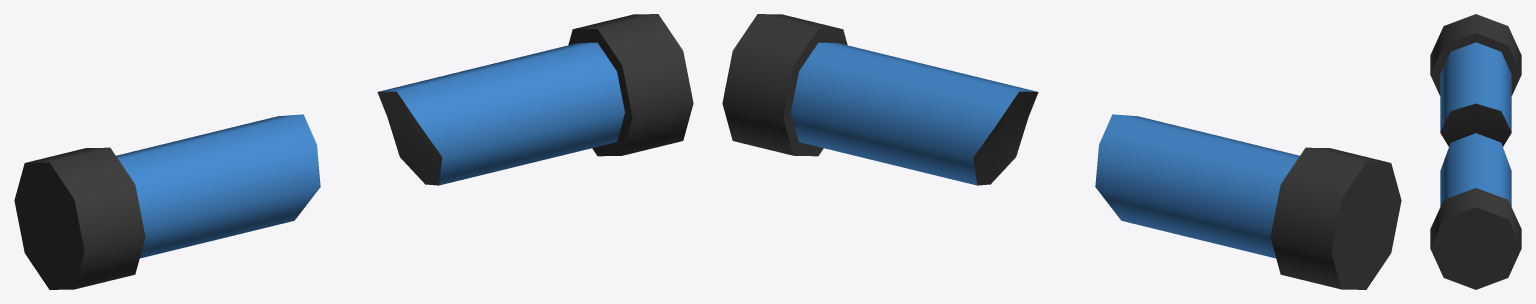
The model's file is Cable5.fbx.
3 views of the same model, side by side, from view 1: azimuth 30°, elevation 25°; view 2: azimuth 150°, elevation 25°; view 3: azimuth 270°, elevation 25° (orthographic). The views are drawn at different scales.
Visible parts, largest first — view 1: TwoSides; view 2: TwoSides; view 3: TwoSides.
Part boxes in pixels (x1,y1,x2,y2): TwoSides: (14, 14, 693, 289); TwoSides: (722, 14, 1401, 289); TwoSides: (1430, 14, 1521, 289).
Bounding box in the file's own units: 100 × 20 × 20.
